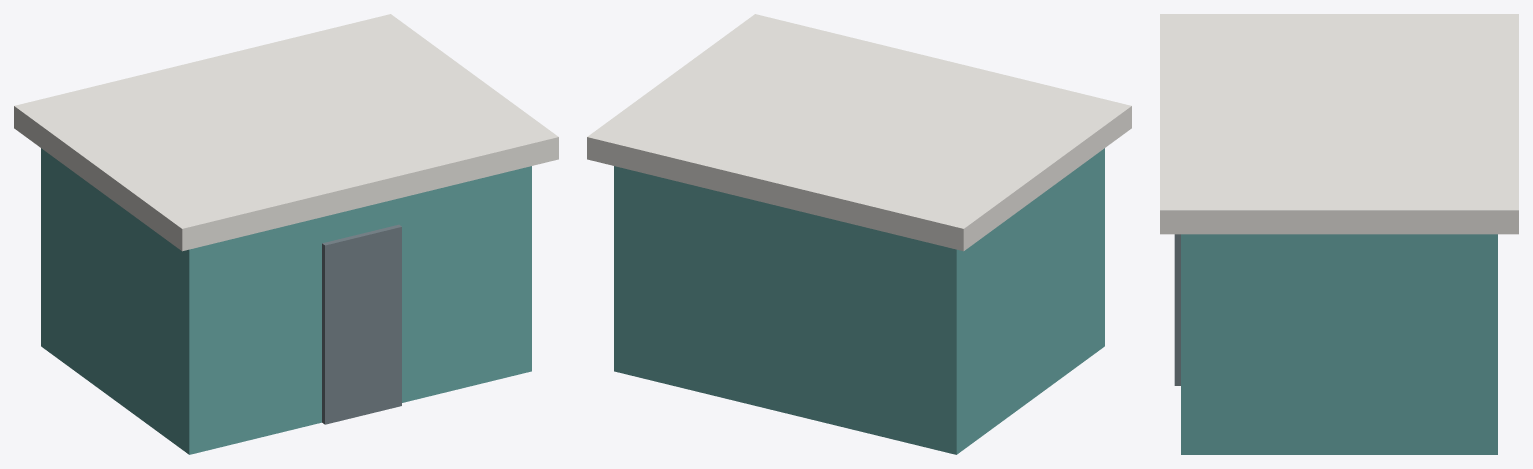
The model's file is variant.glb.
3 views of the same model, side by side, from view 1: azimuth 30°, elevation 25°; view 2: azimuth 150°, elevation 25°; view 3: azimuth 270°, elevation 25° (orthographic). The views are drawn at different scales.
Visible parts, largest first — view 1: walls, roof, door; view 2: walls, roof; view 3: roof, walls, door.
Part boxes in pixels (box(x1,y1,x2,y2)): walls: box(41, 148, 531, 454); roof: box(14, 14, 558, 251); door: box(322, 224, 401, 424); walls: box(614, 148, 1104, 454); roof: box(587, 14, 1131, 251); roof: box(1160, 14, 1518, 234); walls: box(1181, 234, 1497, 454); door: box(1174, 234, 1180, 385).
Bounding box in the file's own units: 4.4 × 2.65 × 3.4.
